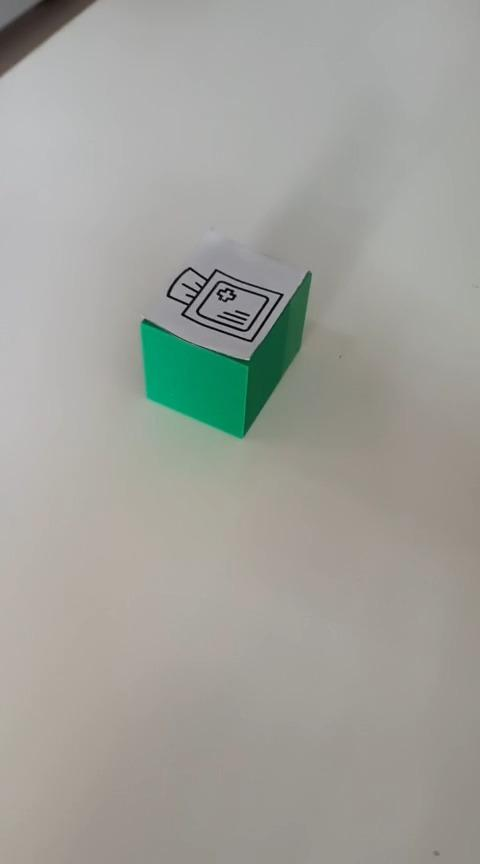Gauze: (138, 228, 312, 439)
